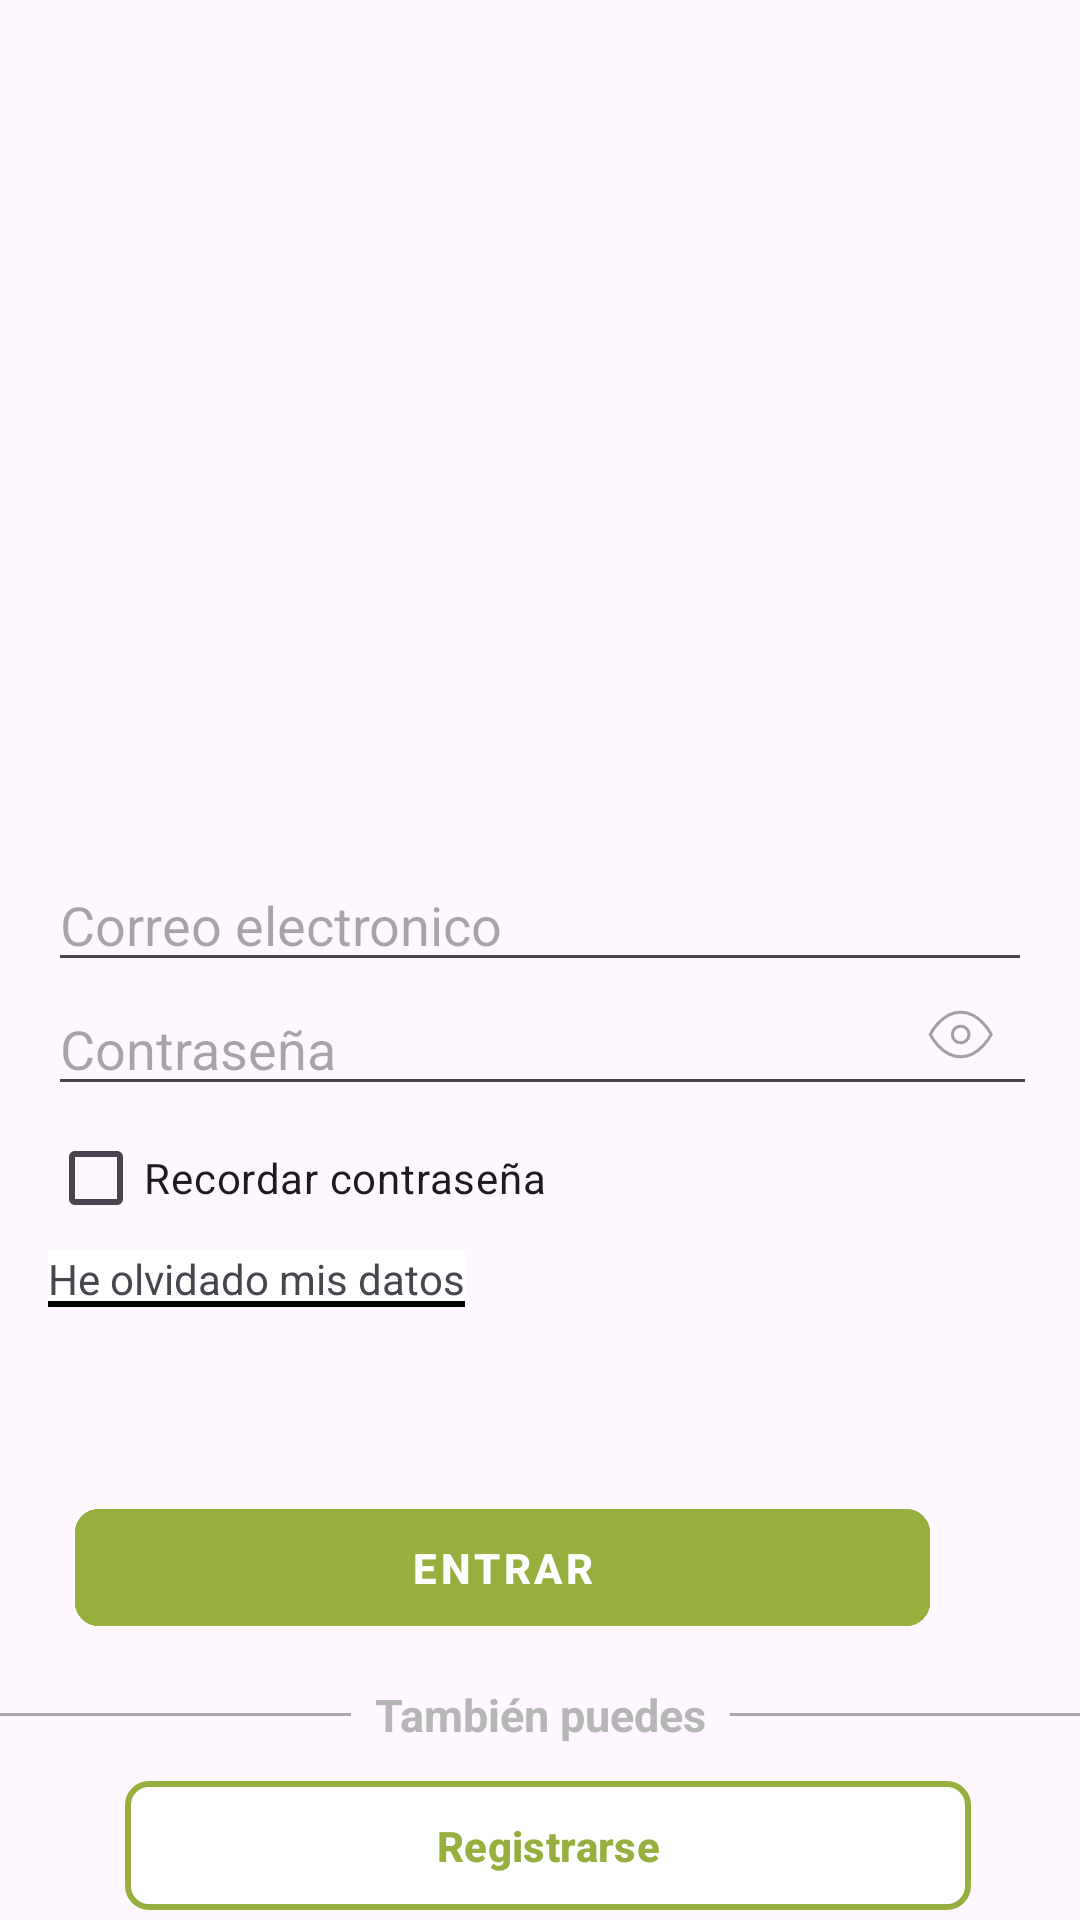

Where to tap for icons on this 1080*1920 app screen, as (x=x, y=y):
ojo: (x=961, y=1034)
